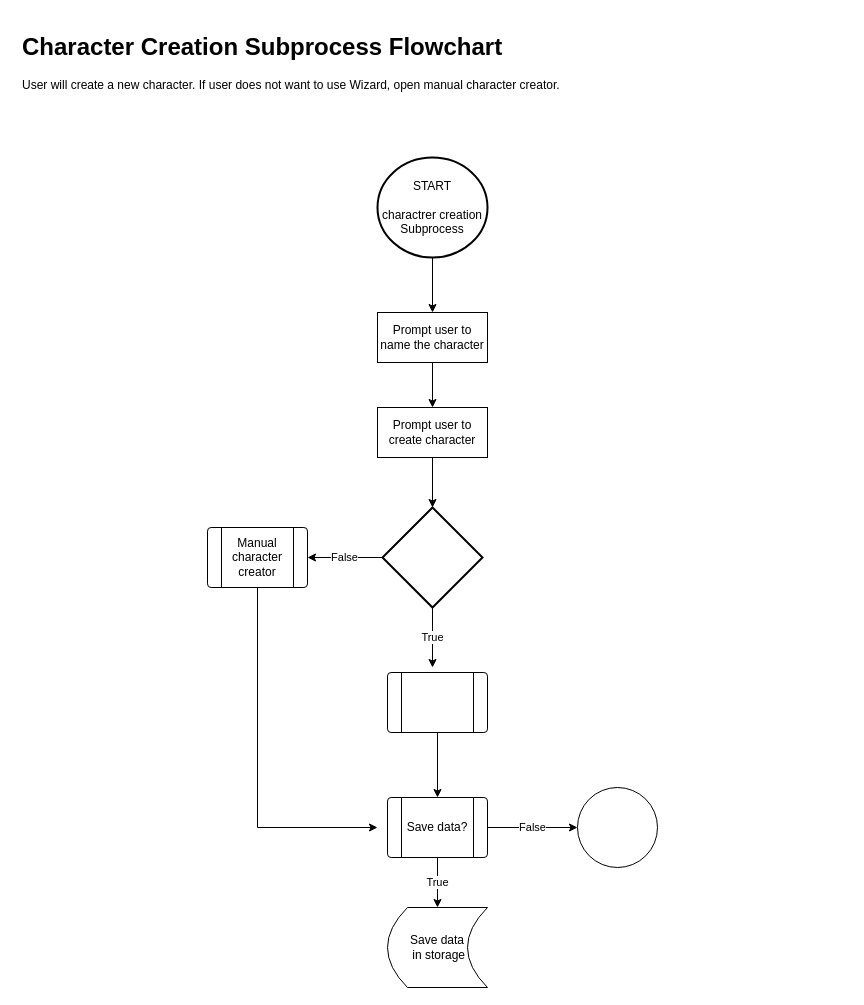
This 864x1005 diagram has some shape labels left out. Here are the shapes that lost their labels. From the top down, the box of each, then its label:
(381, 506, 483, 608): IF Use Wizard's?
(386, 672, 488, 732): Wizard character creator
(576, 786, 658, 868): End
